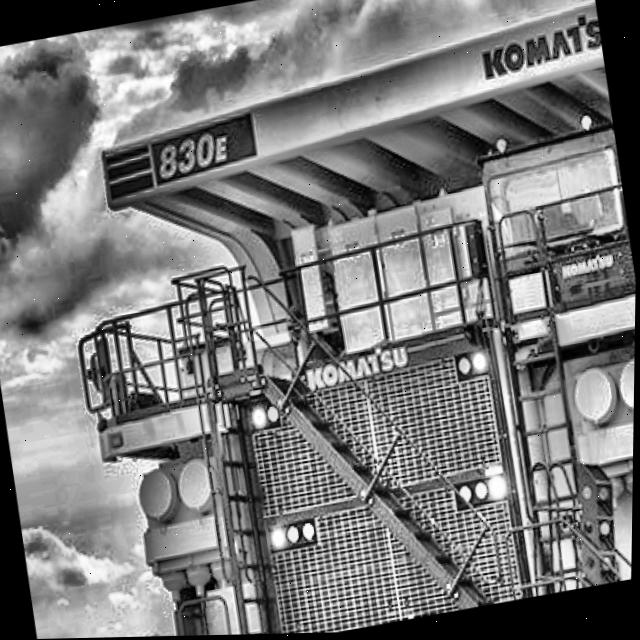dump_truck: (41, 0, 640, 639)
